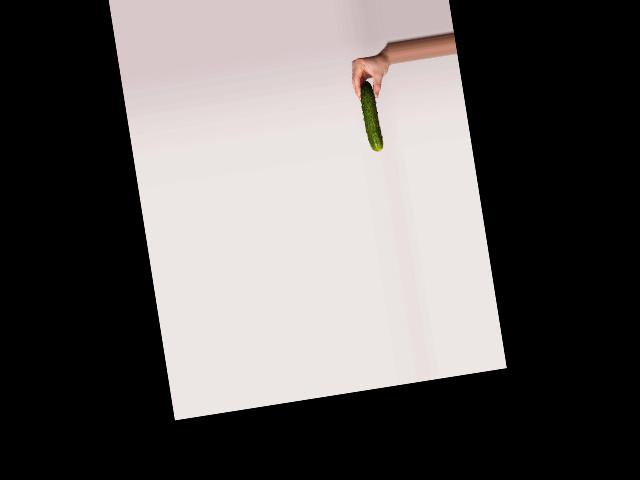cucumber: (358, 80, 383, 152)
